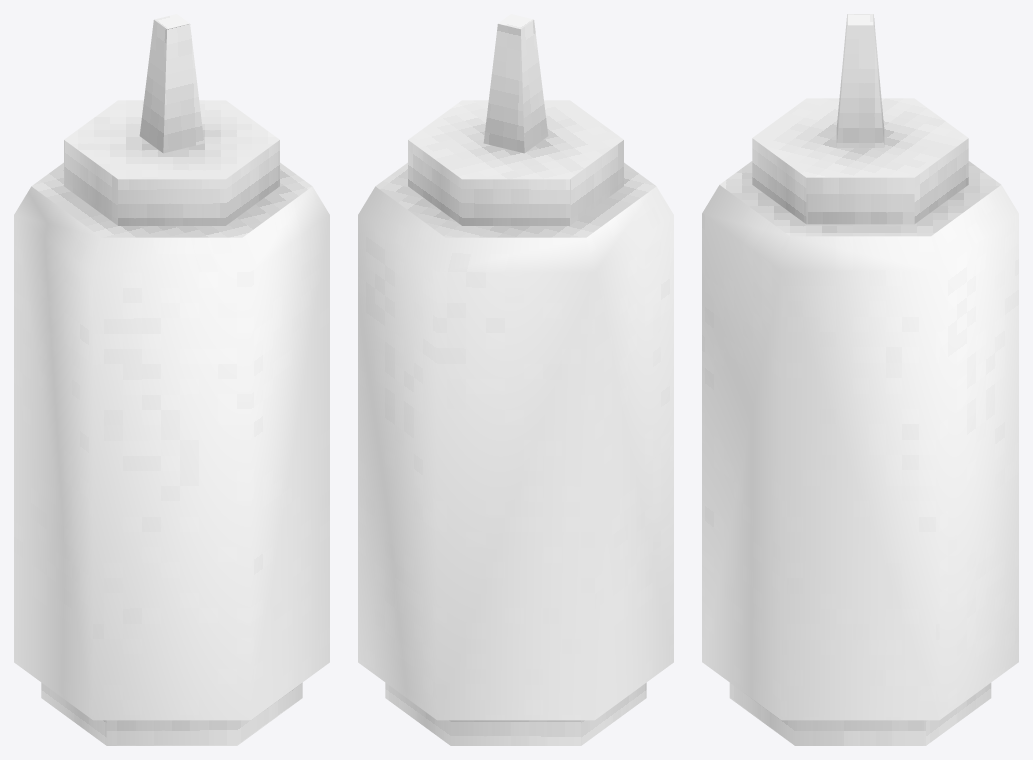
The model's file is bottleMustard.glb.
3 views of the same model, side by side, from view 1: azimuth 30°, elevation 25°; view 2: azimuth 150°, elevation 25°; view 3: azimuth 270°, elevation 25° (orthographic).
Parts seen in each view (by area): view 1: bottleMusterd, bottleMusterd.001; view 2: bottleMusterd, bottleMusterd.001; view 3: bottleMusterd, bottleMusterd.001.
Boxes of the visible parts, bbox=[...] form: bottleMusterd: bbox=[14, 162, 329, 720]; bottleMusterd.001: bbox=[41, 14, 302, 745]; bottleMusterd: bbox=[358, 162, 673, 720]; bottleMusterd.001: bbox=[385, 14, 646, 745]; bottleMusterd: bbox=[702, 161, 1018, 720]; bottleMusterd.001: bbox=[729, 14, 991, 745].
Bounding box in the file's own units: 0.0742 × 0.2025 × 0.0857.
Materials: 1 (1 with a texture image).
